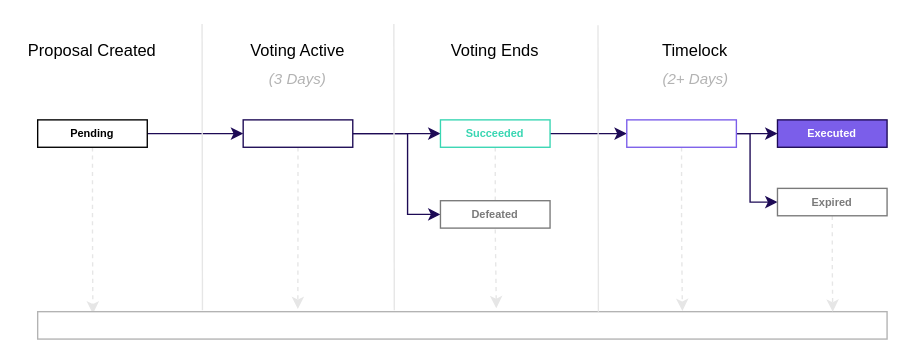
Some shapes in this 911 by 363 pixel diagram are drawn without their labels. The shapes that lost their labels are listed below. From the top down, each one's box as (x1, y1, x2, y2) in pixels, then its label:
(242, 119, 353, 147): Active
(625, 119, 736, 147): Queued
(36, 310, 887, 339): Canceled
